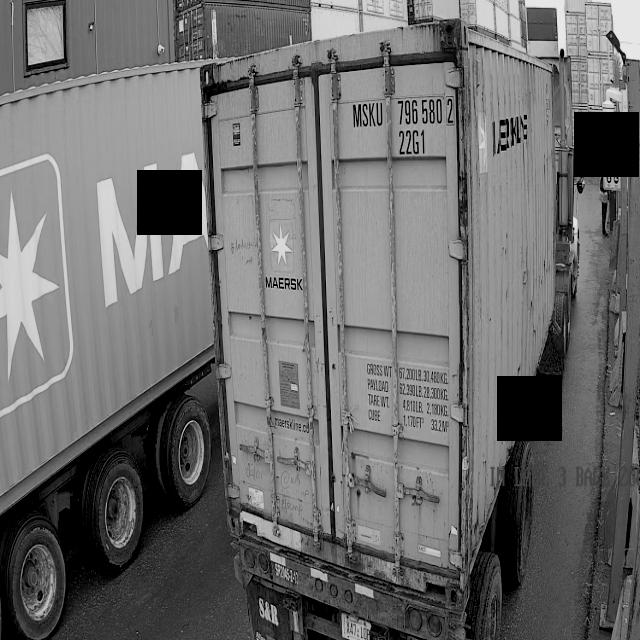container_company_logo: (264, 219, 301, 299)
container_number: (351, 99, 457, 160)
license_plate: (337, 615, 376, 640)
other_container_info: (364, 355, 449, 437)
truck_with_container: (202, 19, 584, 640), (0, 63, 214, 640)
